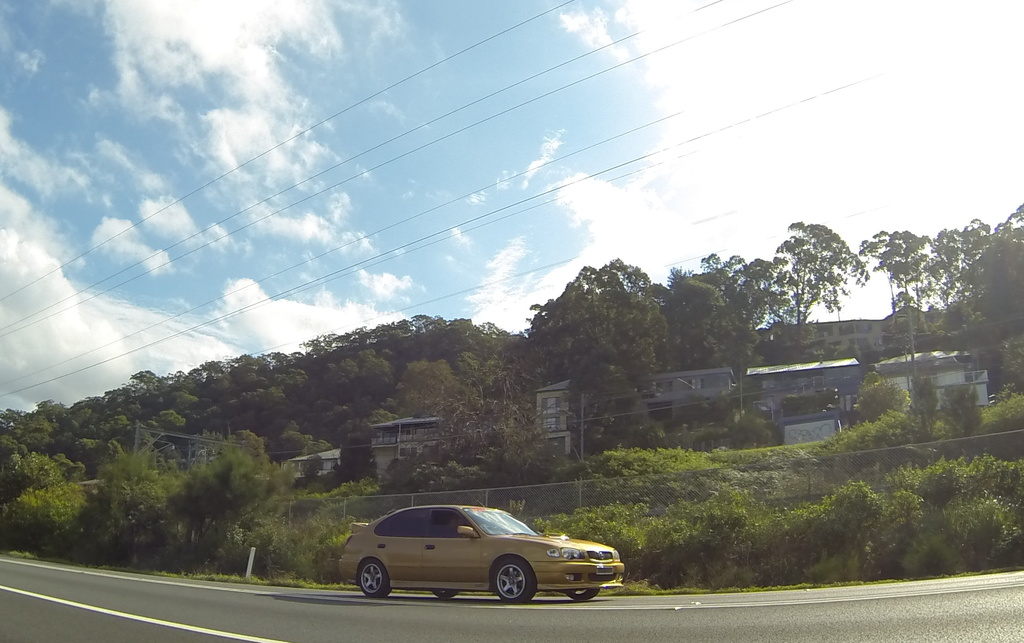Car: (337, 500, 629, 602)
